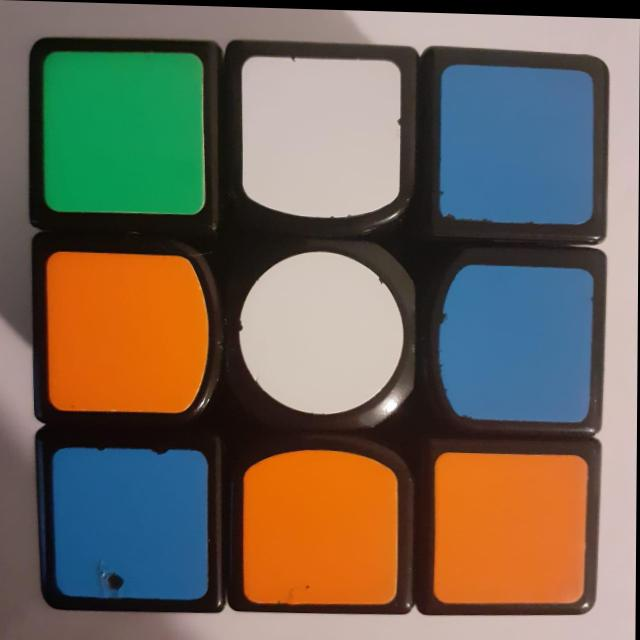Blue: (428, 54, 607, 238), (35, 435, 217, 615), (434, 254, 603, 432)
Green: (35, 46, 213, 224)
Orange: (33, 246, 219, 424), (228, 444, 411, 613), (425, 443, 593, 610)
White: (227, 250, 421, 435), (224, 43, 408, 234)
